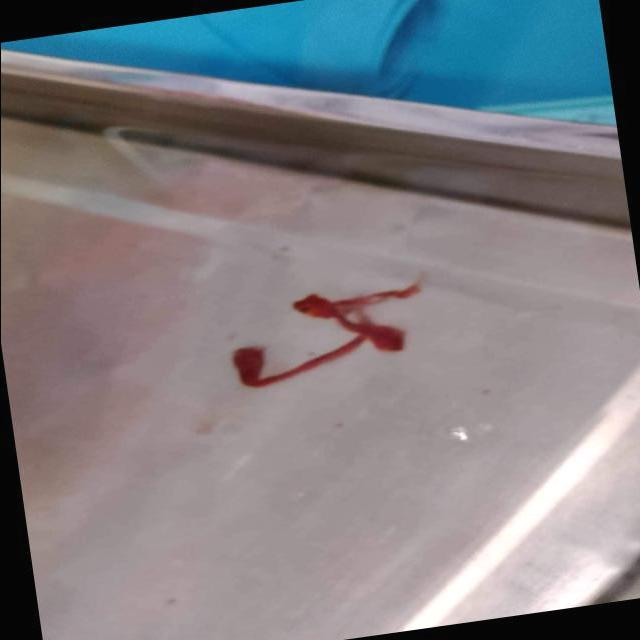General: (1, 9, 640, 637)
Sharps: (233, 276, 425, 388)
